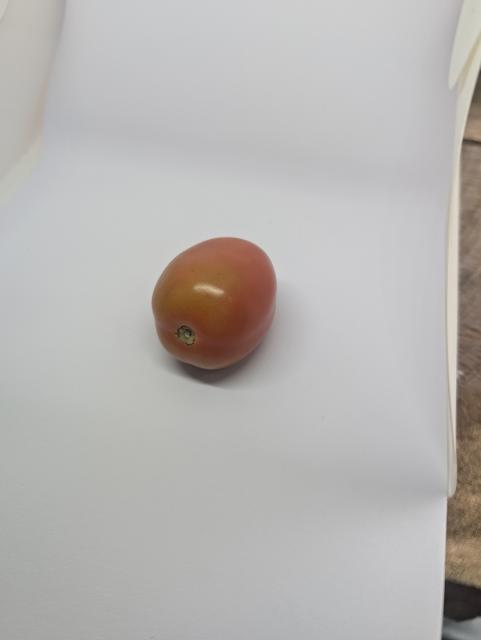red: (127, 211, 309, 401)
